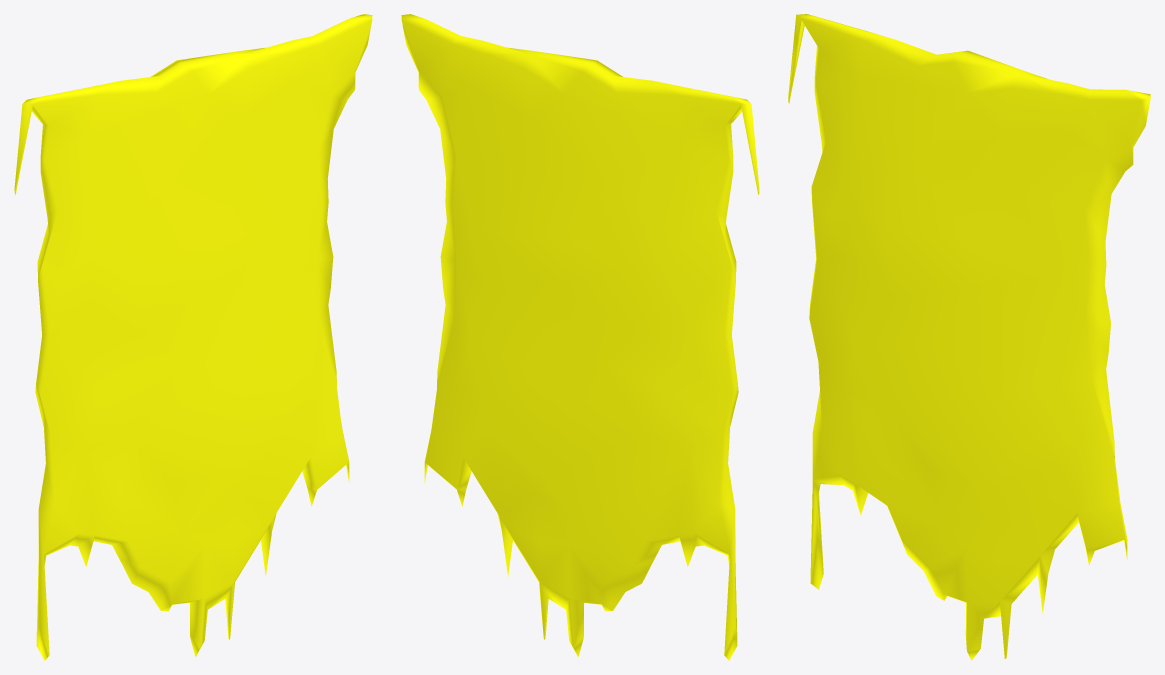
Rendered from SM_Flag3.glb.
3 views of the same model, side by side, from view 1: azimuth 30°, elevation 25°; view 2: azimuth 150°, elevation 25°; view 3: azimuth 330°, elevation 25° (orthographic).
Parts seen in each view (by area): view 1: SM_Flag3_LOD0; view 2: SM_Flag3_LOD0; view 3: SM_Flag3_LOD0.
Boxes of the visible parts, x1,y1,x2,y2 form: SM_Flag3_LOD0: (14, 14, 372, 660); SM_Flag3_LOD0: (401, 14, 759, 660); SM_Flag3_LOD0: (788, 14, 1150, 660).
Size of the model in its own units: 1.16 by 1.86 by 0.1368.
1 material, 1 textured.
